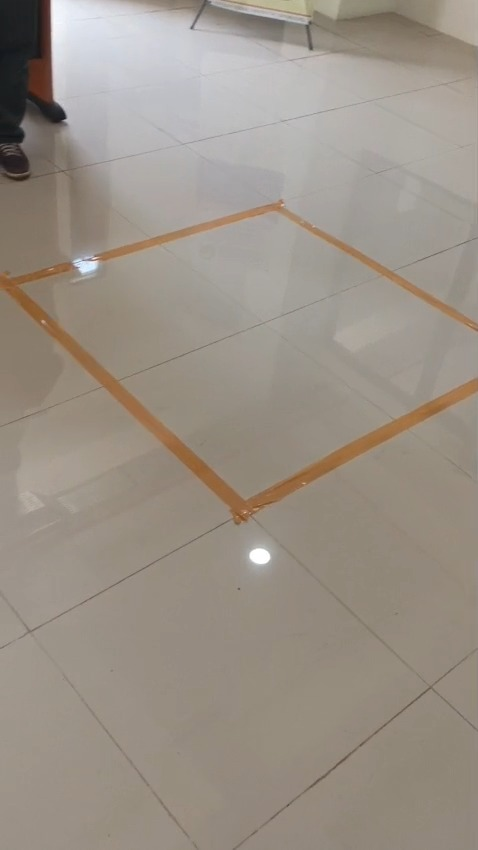floor marking: (0, 201, 477, 523)
